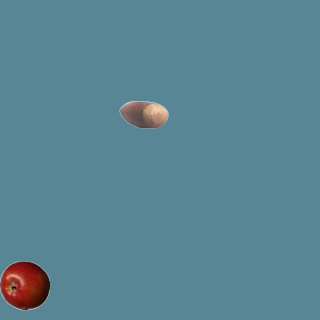Apple Braeburn: (0, 260, 49, 310)
Hazelnut: (118, 89, 168, 139)
